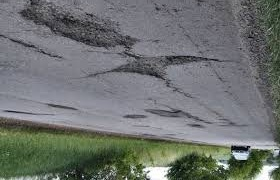pothole: (18, 6, 159, 45), (94, 50, 221, 81), (141, 107, 198, 120), (2, 110, 52, 118), (46, 104, 86, 112), (219, 122, 248, 128), (123, 114, 147, 120), (186, 124, 201, 130), (216, 117, 228, 123)
